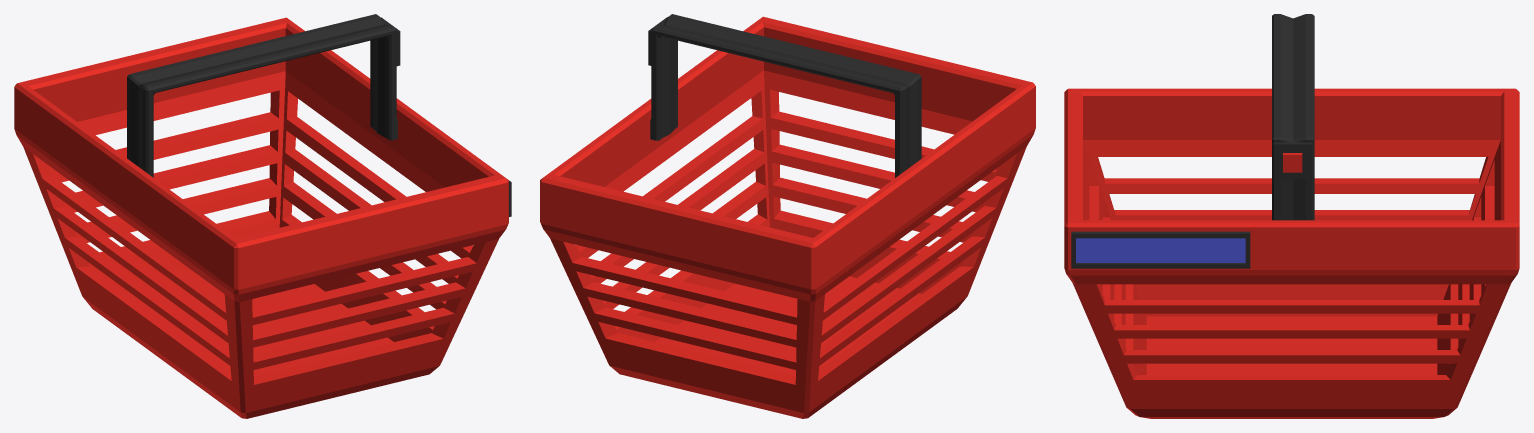
The model's file is basket.glb.
The picture shows the model from 3 angles, left to right: view 1: azimuth 30°, elevation 25°; view 2: azimuth 150°, elevation 25°; view 3: azimuth 270°, elevation 25°; orthographic projection. The views are drawn at different scales.
Visible parts, largest first — view 1: Basket, Basket_Handle; view 2: Basket, Basket_Handle; view 3: Basket, Basket_Handle, Basket_Display_Glass, Basket_Display_Frame, Basket_Button_Frame.
Part boxes in pixels (left/top/right/bottom): Basket: left=14, top=17, right=508, bottom=418; Basket_Handle: left=127, top=14, right=397, bottom=177; Basket: left=540, top=16, right=1035, bottom=418; Basket_Handle: left=650, top=14, right=921, bottom=177; Basket: left=1064, top=88, right=1519, bottom=418; Basket_Handle: left=1272, top=14, right=1314, bottom=220; Basket_Display_Glass: left=1076, top=238, right=1245, bottom=262; Basket_Display_Frame: left=1071, top=231, right=1250, bottom=268; Basket_Button_Frame: left=1273, top=141, right=1311, bottom=179.
Size of the model in its own units: 0.2962 by 0.298 by 0.4092.
